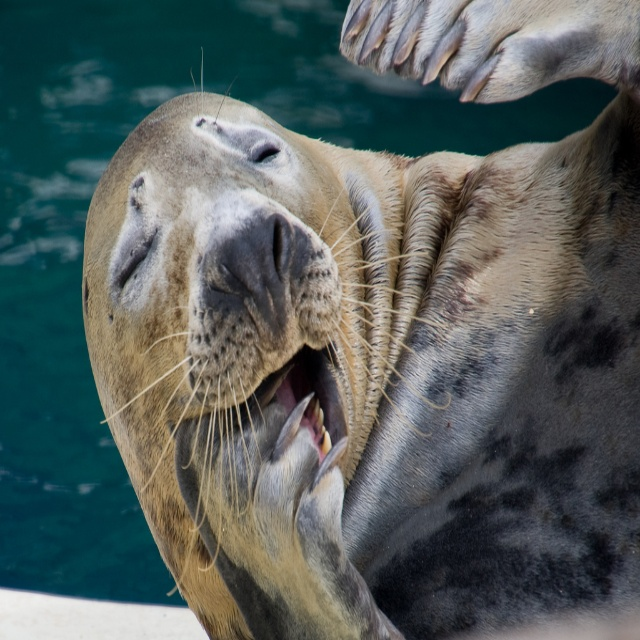Harbor seal: (80, 0, 640, 639)
